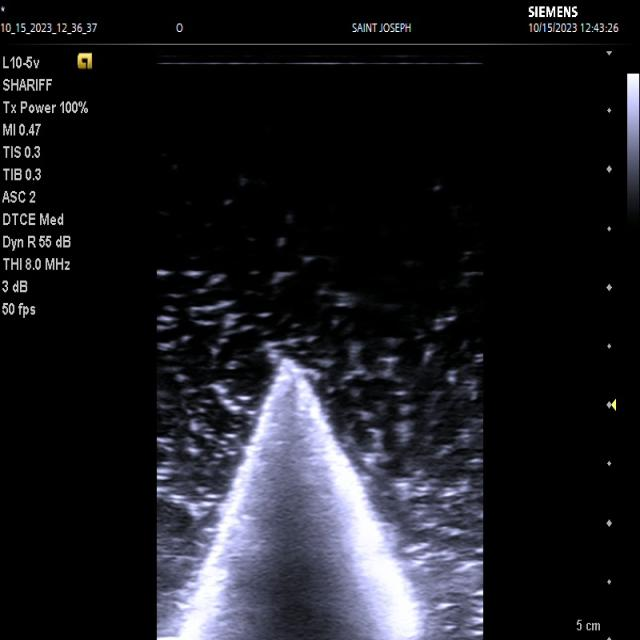tissue: (174, 359, 426, 640)
